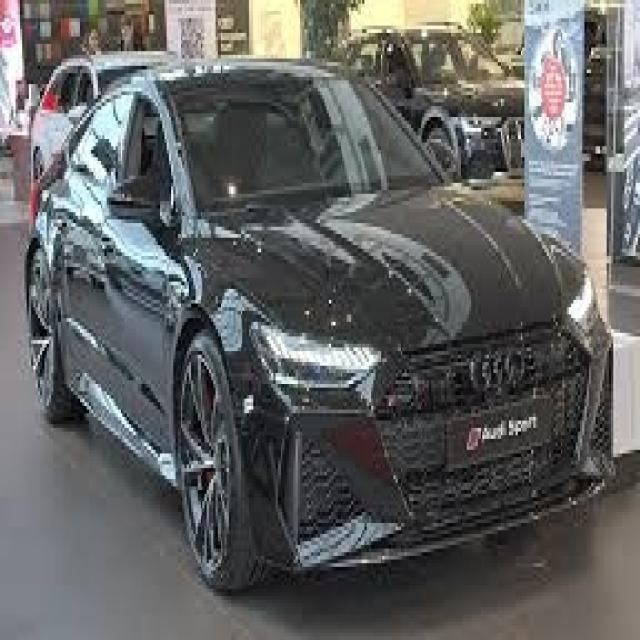black: (26, 61, 612, 564)
